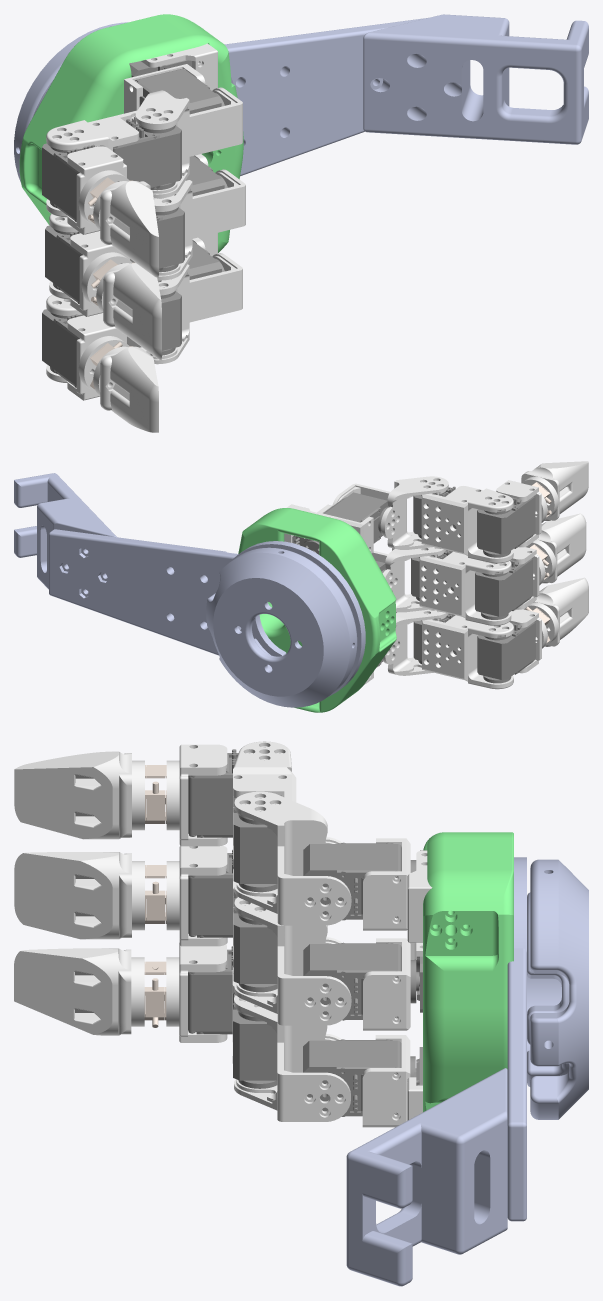
The model's file is dexremo_hand_full.glb.
3 views of the same model, one above another, from view 1: azimuth 30°, elevation 25°; view 2: azimuth 150°, elevation 25°; view 3: azimuth 270°, elevation 25° (orthographic). The views are drawn at different scales.
Parts seen in each view (by area): view 1: cam2-1, motor_driver2-4-1, hand-base-1, support2-1-5, finger3-1-1, finger-1-1, finger2-1-1, support2-1-1, support2-1-4, STS3215_03a.step-18, support3-5, new_nail_base_3-v2-2 (×3) (+15 smaller); view 2: falan3-2, motor_driver2-4-1, hand-base-1, cam2-1, support3-5, support3-4, support3-1, support2-1-5, STS3215_03a.step-15, STS3215_03a.step-19, STS3215_03a.step-3, finger-1-1 (+13 smaller); view 3: cam2-1, hand-base-1, falan3-2, finger-1-1, finger3-1-1, finger2-1-1, support2-1-5, support2-1-1, motor_driver2-4-1, support2-1-4, STS3215_03a.step-13, STS3215_03a.step-17 (+20 smaller).
Part boxes in pixels (<box>): cam2-1: <box>363,14,588,144</box>; motor_driver2-4-1: <box>33,17,428,176</box>; hand-base-1: <box>19,14,243,252</box>; support2-1-5: <box>135,87,242,198</box>; finger3-1-1: <box>100,181,158,277</box>; finger-1-1: <box>103,263,161,360</box>; finger2-1-1: <box>100,346,158,432</box>; support2-1-1: <box>153,169,245,280</box>; support2-1-4: <box>151,253,242,364</box>; STS3215_03a.step-18: <box>113,119,181,190</box>; support3-5: <box>46,110,138,217</box>; new_nail_base_3-v2-2 (×3): <box>78,170,132,392</box>; falan3-2: <box>206,547,357,707</box>; motor_driver2-4-1: <box>49,529,365,696</box>; hand-base-1: <box>238,508,396,712</box>; cam2-1: <box>14,473,116,589</box>; support3-5: <box>421,486,513,563</box>; support3-4: <box>422,615,513,689</box>; support3-1: <box>419,551,511,625</box>; support2-1-5: <box>332,476,448,549</box>; STS3215_03a.step-15: <box>477,621,535,683</box>; STS3215_03a.step-19: <box>477,495,535,557</box>; STS3215_03a.step-3: <box>475,558,532,619</box>; finger-1-1: <box>537,513,586,583</box>; cam2-1: <box>346,1068,507,1286</box>; hand-base-1: <box>423,832,513,1111</box>; falan3-2: <box>530,859,588,1119</box>; finger-1-1: <box>14,852,131,939</box>; finger3-1-1: <box>14,751,131,839</box>; finger2-1-1: <box>14,948,131,1035</box>; support2-1-5: <box>234,791,351,925</box>; support2-1-1: <box>234,897,351,1025</box>; motor_driver2-4-1: <box>507,857,526,1221</box>; support2-1-4: <box>234,995,350,1121</box>; STS3215_03a.step-13: <box>303,1039,401,1116</box>; STS3215_03a.step-17: <box>303,842,401,920</box>.
Size of the model in its own units: 0.3812 by 0.1452 by 0.2649.
